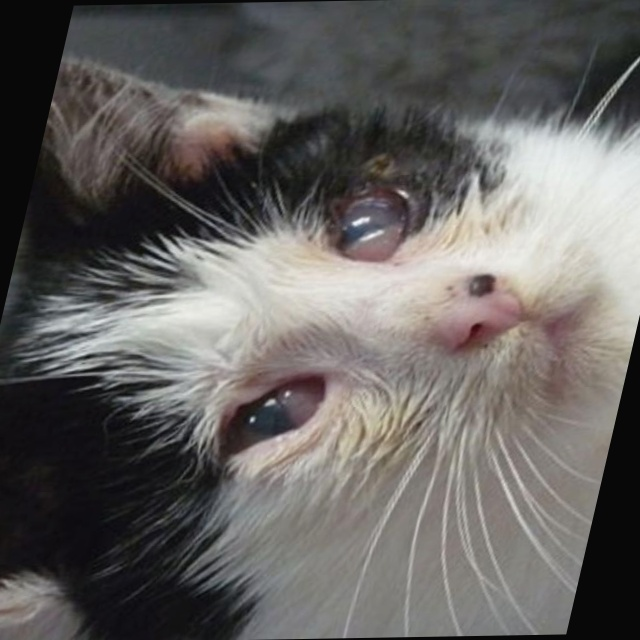eye_infection: (203, 366, 336, 465), (321, 171, 433, 268)
